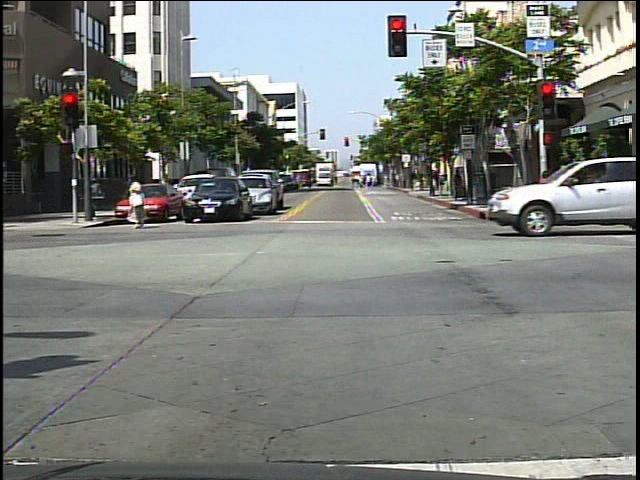person: (123, 170, 154, 234), (549, 160, 571, 211), (531, 171, 558, 184)
